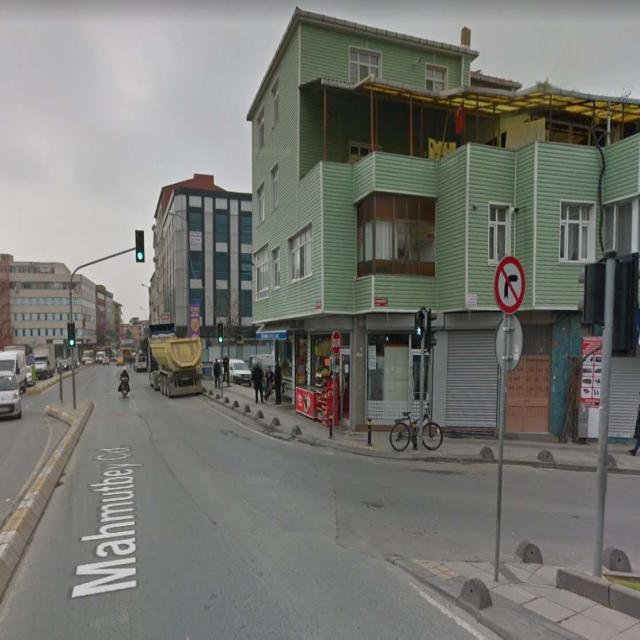dur: (332, 330, 341, 353)
sagadonulmez: (495, 258, 524, 314)
yesil: (136, 230, 145, 263), (68, 322, 76, 349), (216, 323, 223, 346)
